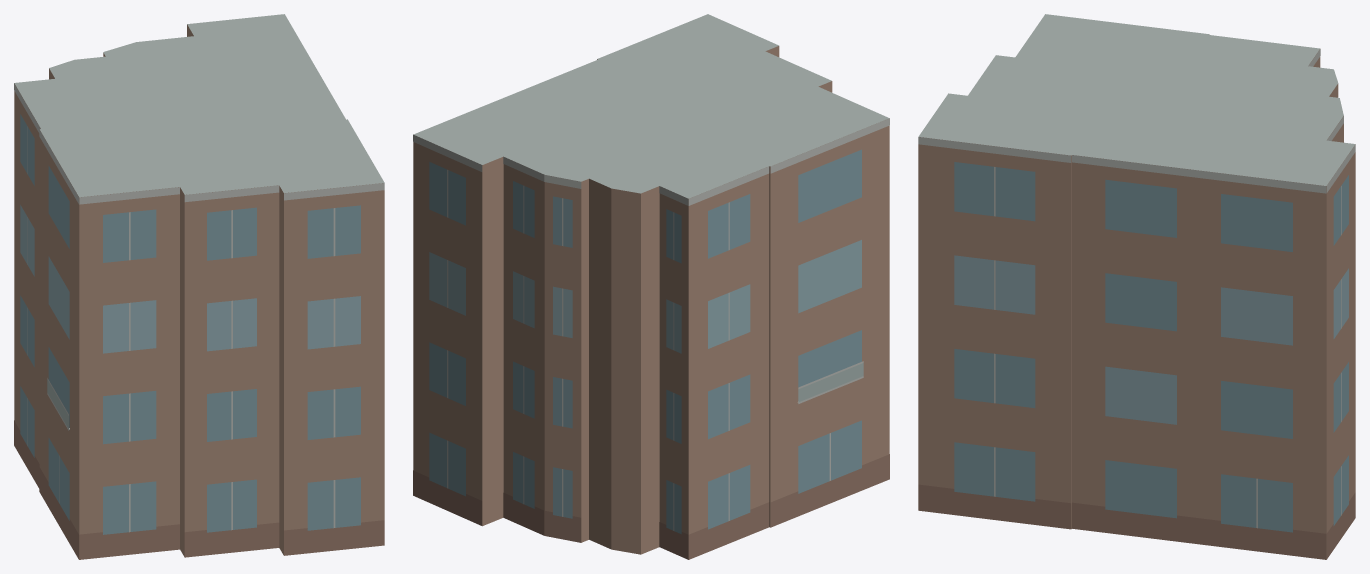
The model's file is survey-upis-33034996.glb.
The picture shows the model from 3 angles, left to right: view 1: azimuth 30°, elevation 25°; view 2: azimuth 150°, elevation 25°; view 3: azimuth 270°, elevation 25°; orthographic projection. The views are drawn at different scales.
Visible parts, largest first — view 1: survey-upis-33034996.tmp; view 2: survey-upis-33034996.tmp; view 3: survey-upis-33034996.tmp.
Part boxes in pixels (x1,y1,x2,y2): survey-upis-33034996.tmp: (14,14,384,559); survey-upis-33034996.tmp: (413,14,889,559); survey-upis-33034996.tmp: (918,14,1355,559).
Size of the model in its own units: 11.95 by 12.1 by 12.84.
